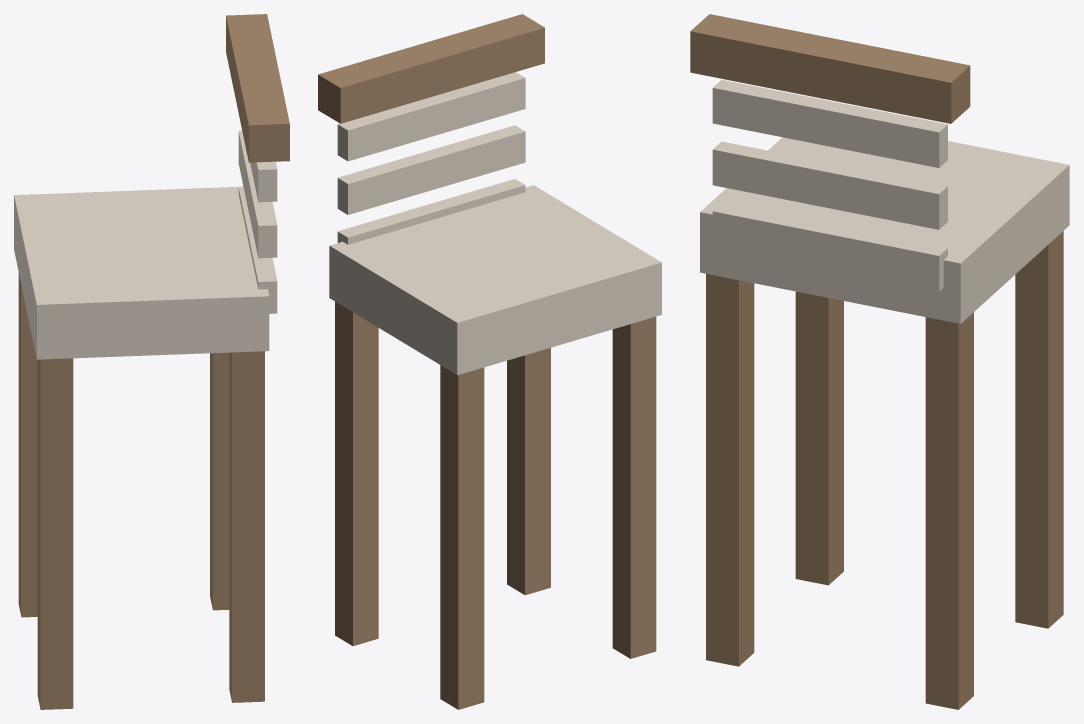
The model's file is beso-upholstered-dining-chair.glb.
3 renders of one model, left to right at view 1: azimuth 30°, elevation 25°; view 2: azimuth 150°, elevation 25°; view 3: azimuth 270°, elevation 25°, orthographic. The views are drawn at different scales.
Size of the model in its own units: 24.8 by 46.5 by 25.04.
